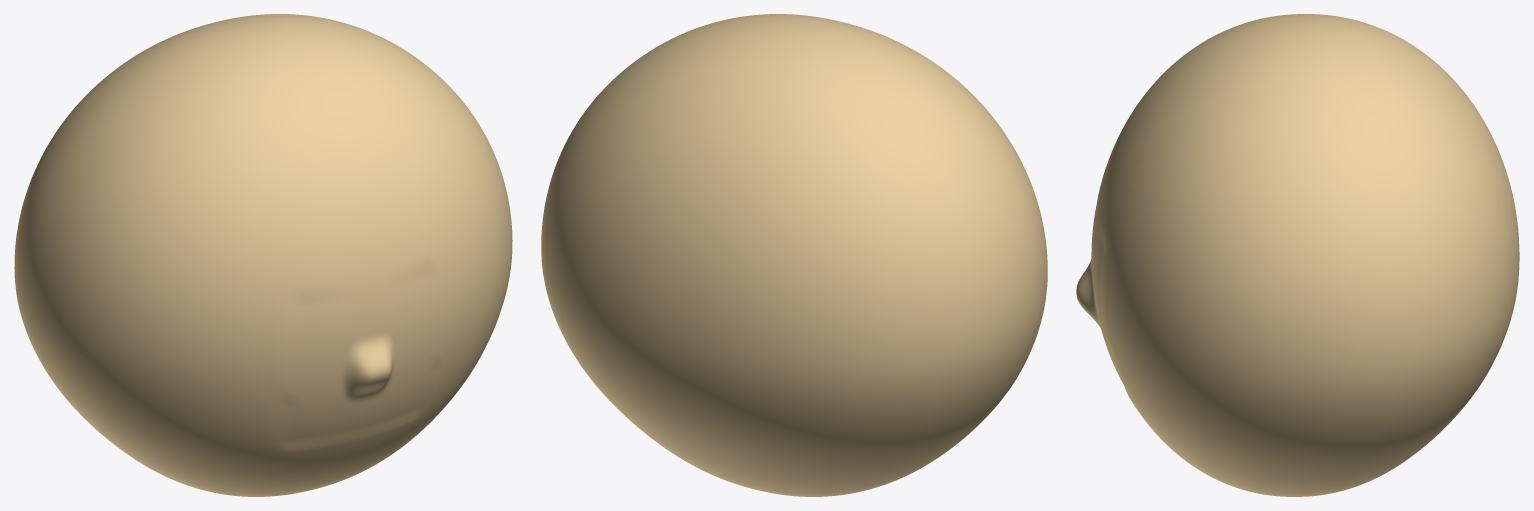
File: Feminine-nose-soft.glb
3 views of the same model, side by side, from view 1: azimuth 30°, elevation 25°; view 2: azimuth 150°, elevation 25°; view 3: azimuth 270°, elevation 25° (orthographic). The views are drawn at different scales.
Visible parts, largest first — view 1: Skin / integrated nose182; view 2: Skin / integrated nose182; view 3: Skin / integrated nose182.
Boxes of the visible parts, left/top/right/bottom form: Skin / integrated nose182: left=14, top=14, right=512, bottom=496; Skin / integrated nose182: left=541, top=14, right=1047, bottom=496; Skin / integrated nose182: left=1076, top=14, right=1519, bottom=496.
Size of the model in its own units: 0.96 by 0.91 by 0.8384.
